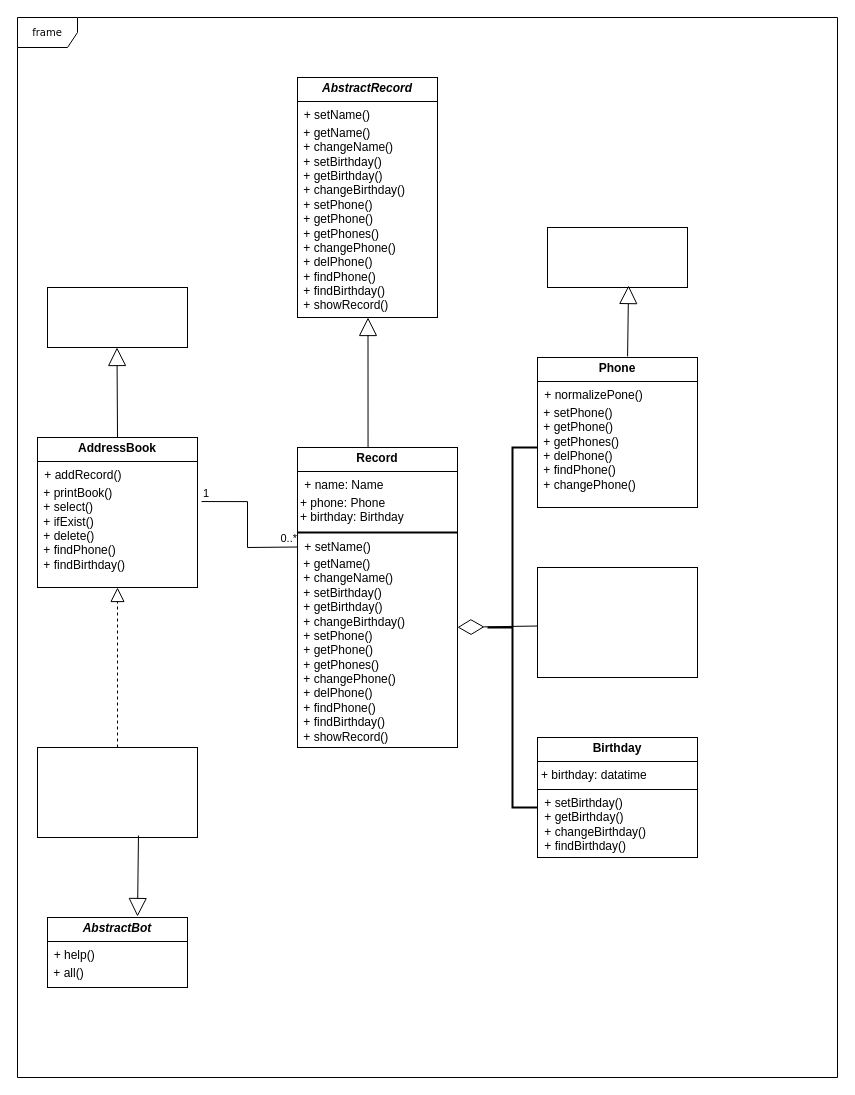
Some shapes in this 855 by 1095 pixel diagram are drawn without their labels. The centre of each missing label's shape, as x and y in pixels:
"Class UserDict" goes at [117,317].
"Name + name: str + setName() + getName() + changeName()" goes at [617,622].
"SimpleBot + book: AddressBook + help() + all()" goes at [117,792].
"UserList" goes at [617,257].
